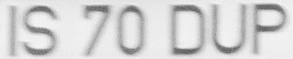0: (116, 4, 149, 59)
7: (78, 1, 112, 59)
D: (166, 2, 206, 58)
I: (3, 2, 20, 59)
P: (252, 2, 288, 57)
S: (21, 1, 60, 59)
U: (211, 1, 248, 56)
